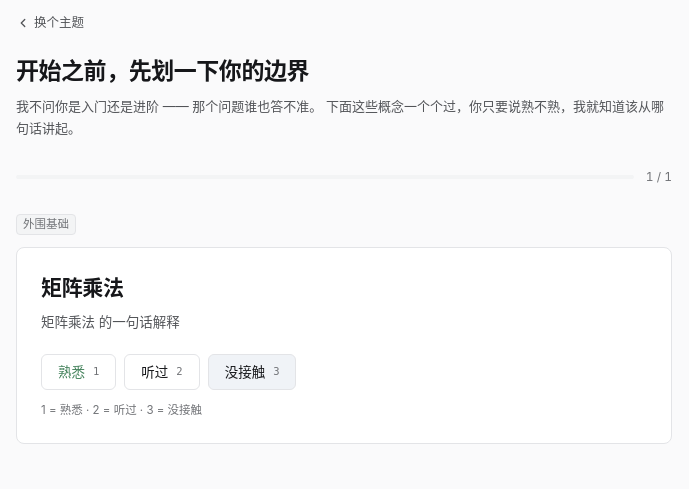
CalibratePage › 答完全部且流结束后进入定目标
The width and height of the screenshot is (689, 489).
Check: the text "矩阵乘法" is shown, box [41,275,124,300]
Click the text "没接触": (245,372) [225,362,265,382]
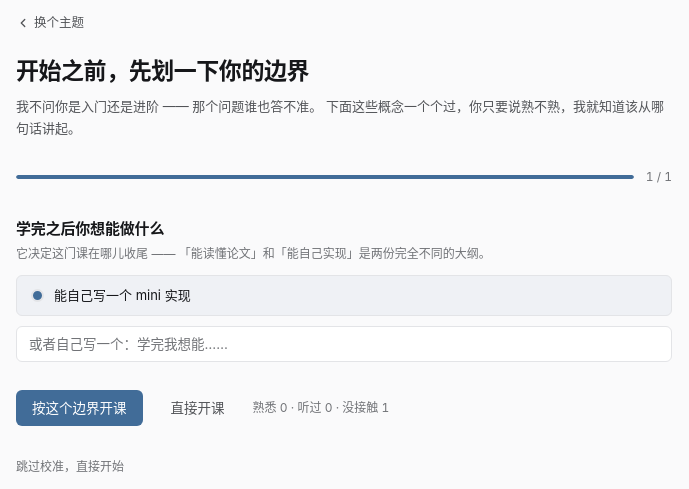
Check: the heading "学完之后你想能做什么" is shown, box [16,219,164,238]
Check: the text "能自己写一个 mini 实现" is shown, box [54,286,191,305]
